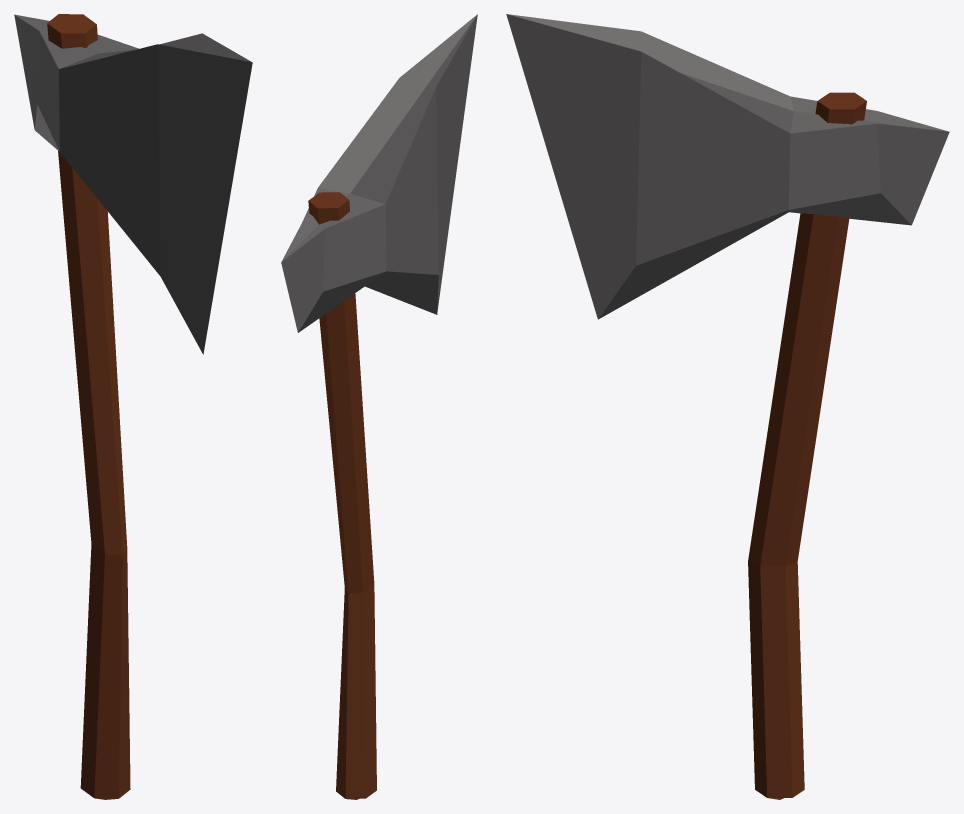
The model's file is Axe.fbx.
3 views of the same model, side by side, from view 1: azimuth 30°, elevation 25°; view 2: azimuth 150°, elevation 25°; view 3: azimuth 270°, elevation 25° (orthographic). The views are drawn at different scales.
Parts seen in each view (by area): view 1: Axe; view 2: Axe; view 3: Axe.
Part boxes in pixels (x1,y1,x2,y2): Axe: (14, 14, 252, 799); Axe: (281, 14, 477, 799); Axe: (506, 14, 949, 799).
Size of the model in its own units: 94.01 by 926 by 474.
